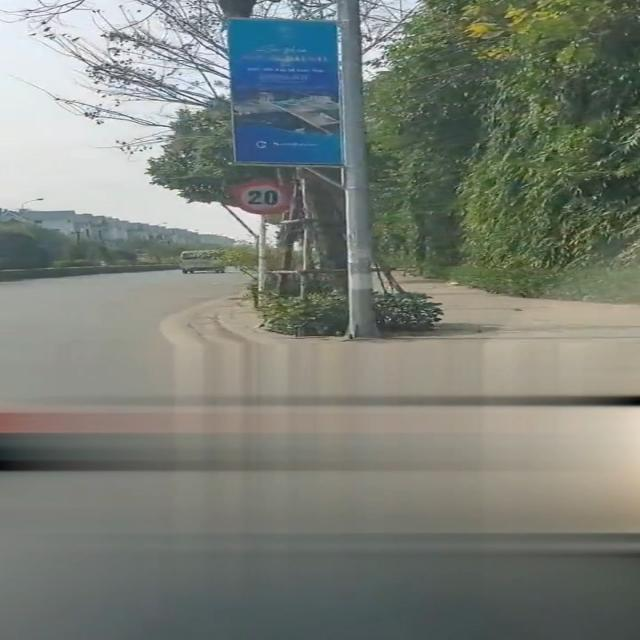127-toc-do-toi-da-20: (231, 180, 289, 214)
